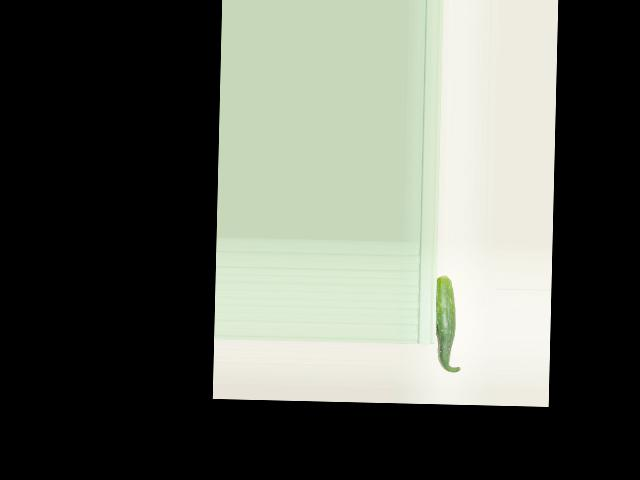cucumber: (434, 275, 462, 372)
